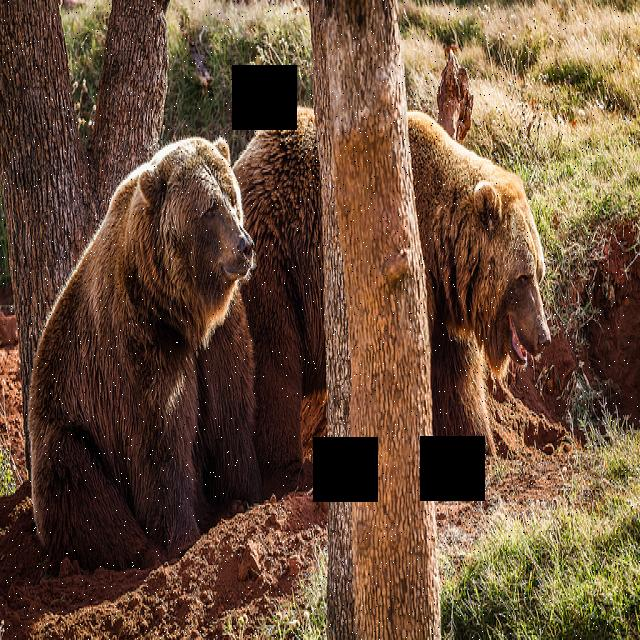Bear: (228, 98, 563, 470), (25, 126, 274, 568)
